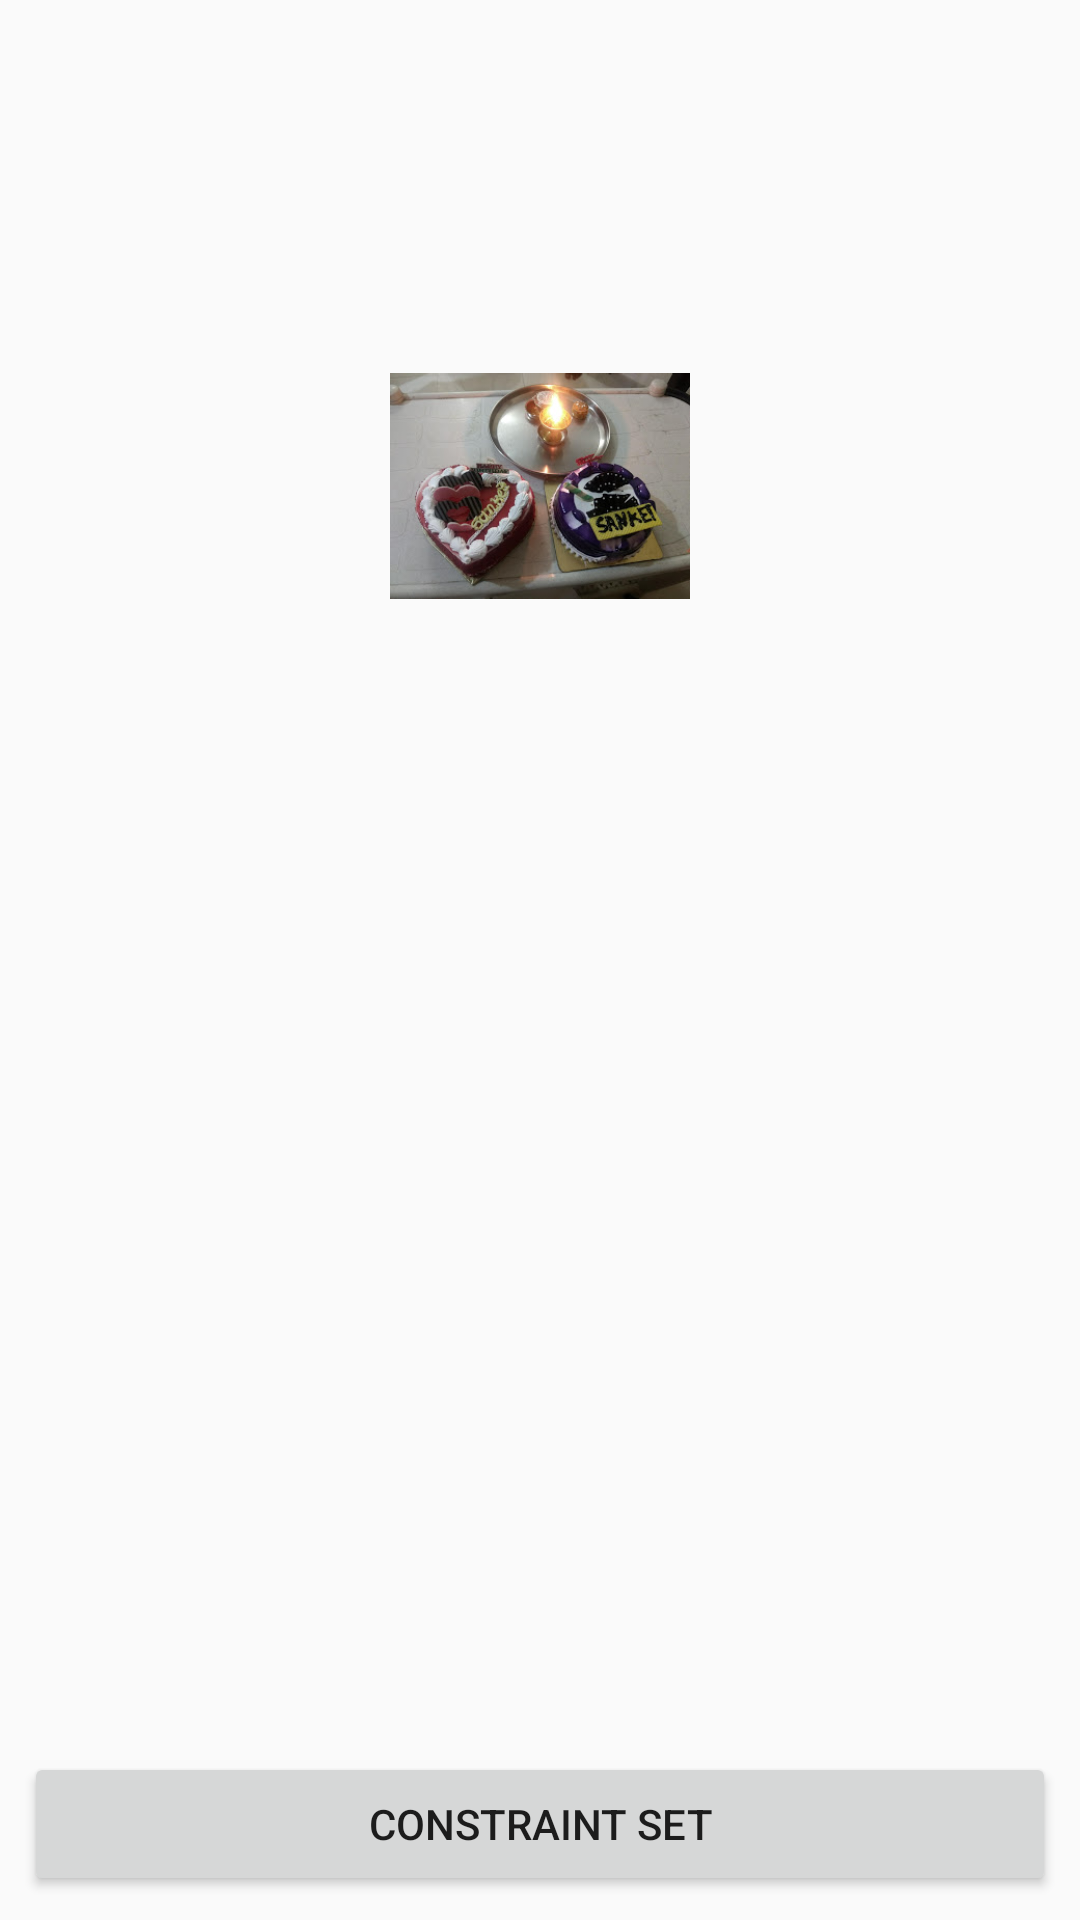

Where to tap for icons on this 1080*1920 app screen, as point (x, y):
cake: point (540, 486)
